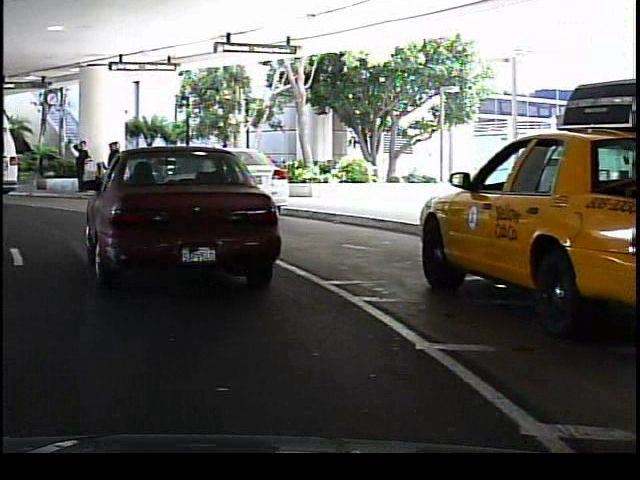person: (151, 145, 179, 197), (65, 139, 89, 196), (102, 140, 122, 190)
